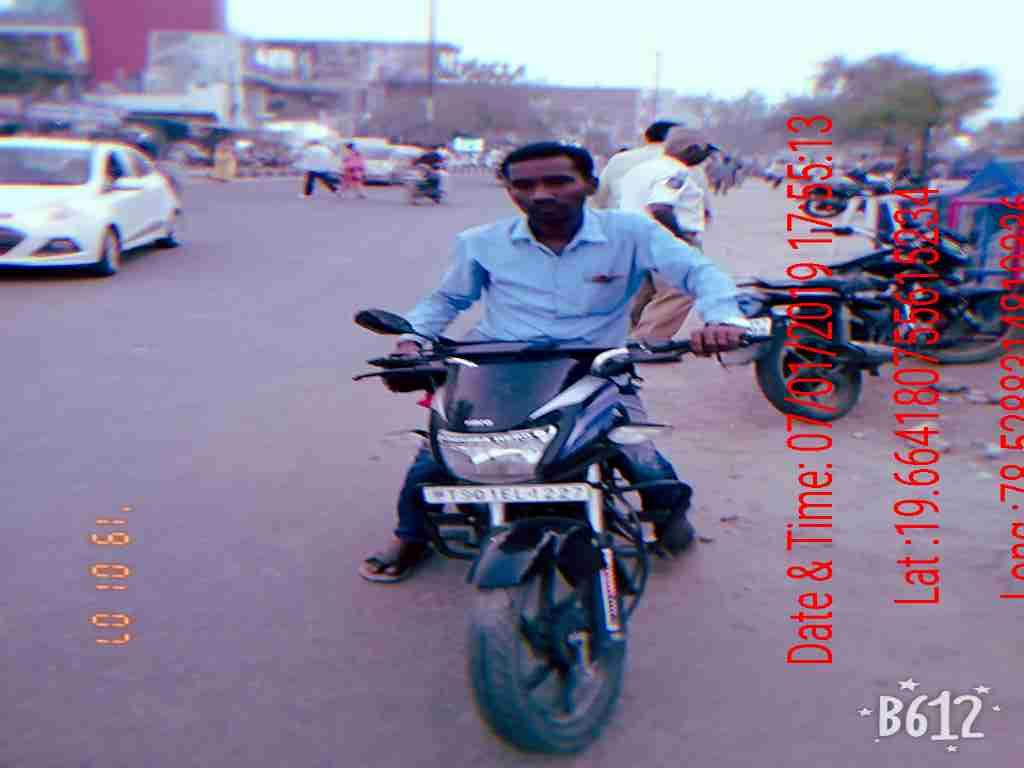plate: (414, 480, 595, 513)
